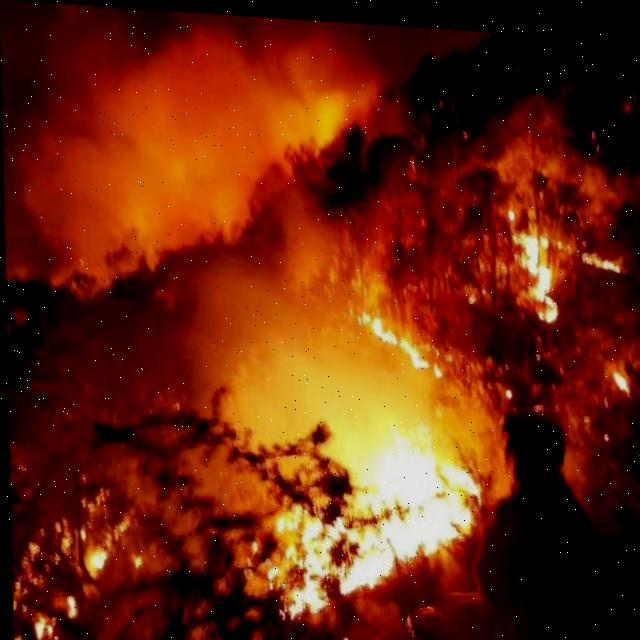Fire: (256, 426, 490, 626), (11, 479, 142, 639), (486, 188, 622, 320), (351, 296, 452, 378)
